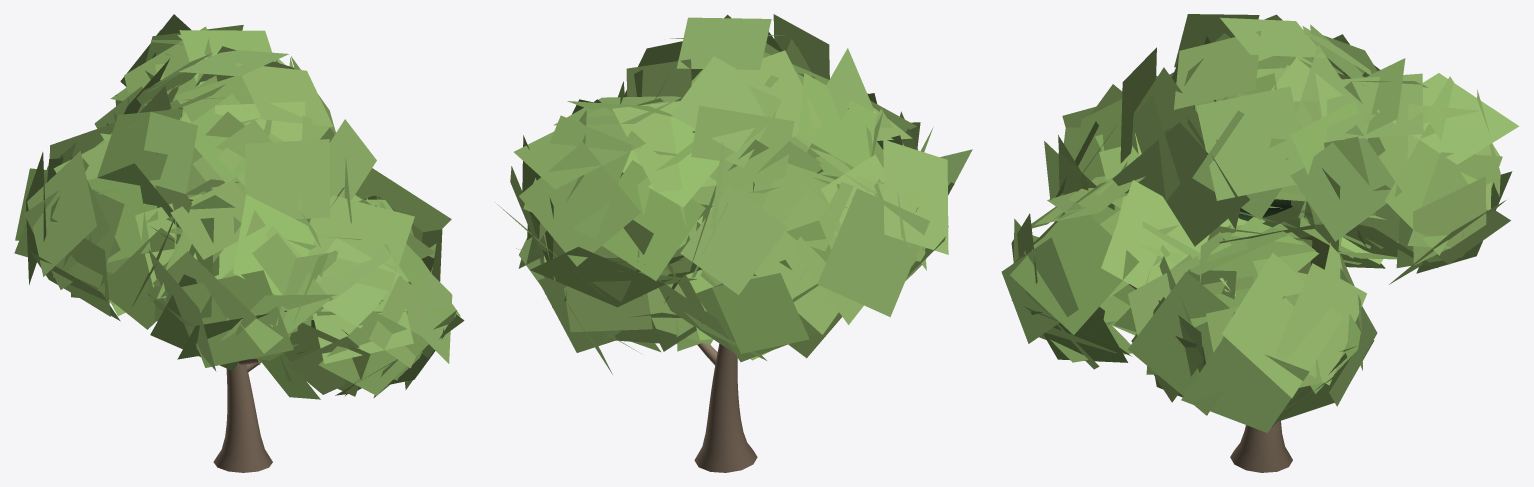
The model's file is tree_oak_1.glb.
The picture shows the model from 3 angles, left to right: view 1: azimuth 30°, elevation 25°; view 2: azimuth 150°, elevation 25°; view 3: azimuth 270°, elevation 25°; orthographic projection. The views are drawn at different scales.
Parts seen in each view (by area): view 1: Tree; view 2: Tree; view 3: Tree.
Boxes of the visible parts, x1,y1,x2,y2 form: Tree: (14, 14, 464, 472); Tree: (495, 14, 972, 472); Tree: (1001, 14, 1519, 472).
Bounding box in the file's own units: 8.81 × 8.58 × 9.35.
